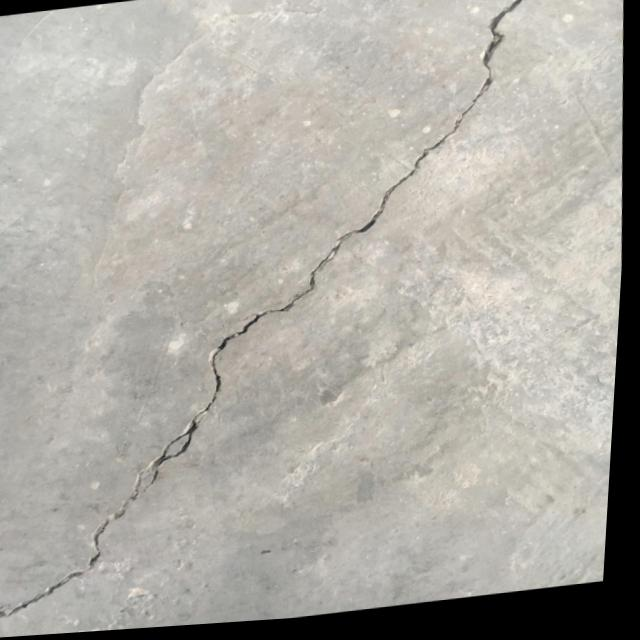Crack: (344, 0, 579, 239), (0, 418, 214, 620), (194, 238, 366, 419)
